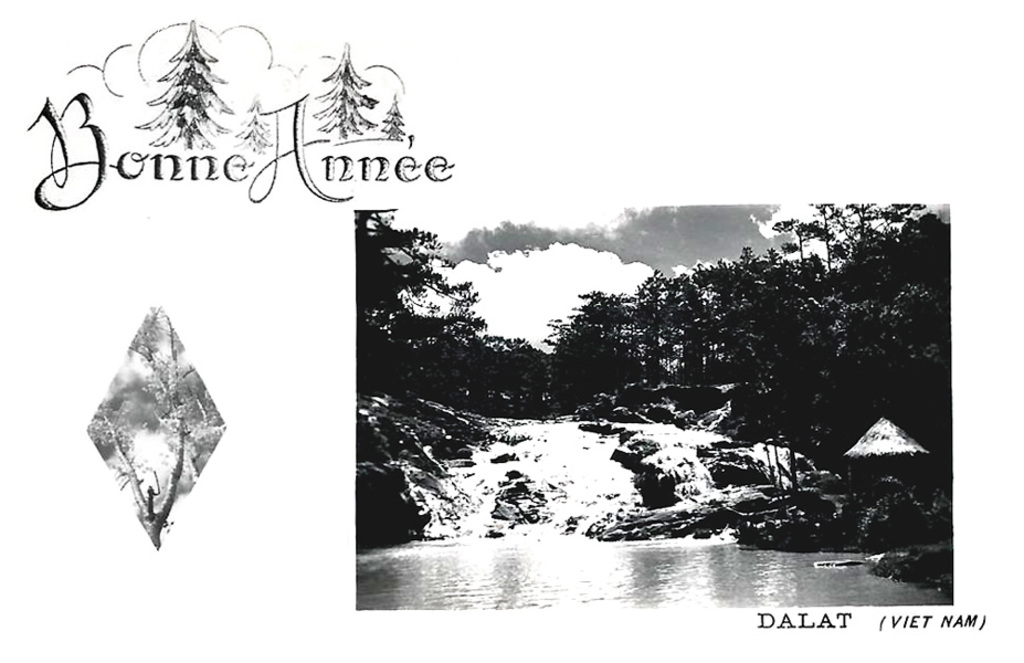Tree: (532, 201, 952, 480), (353, 207, 551, 396)
